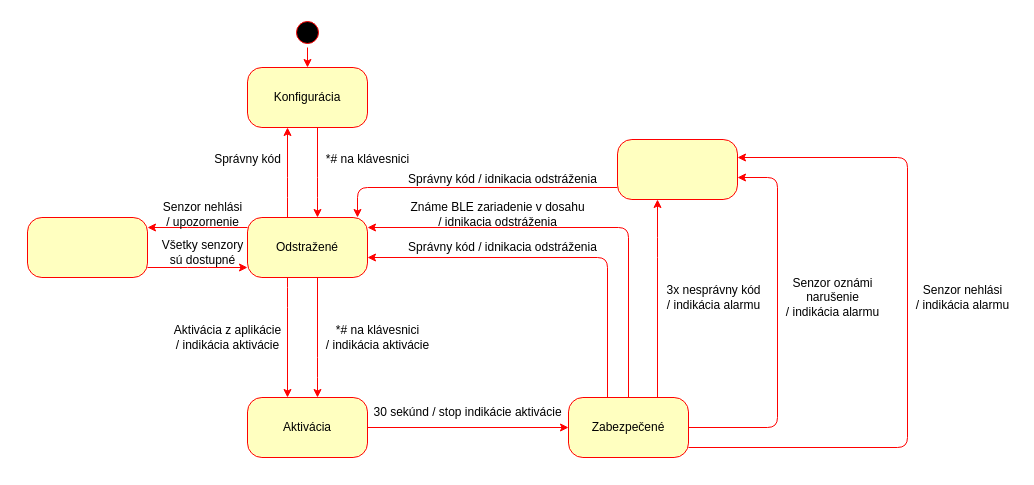
Image size: 1034x485. Some labels were removed from this diagram. Here are the shapes that lost their labels. From the top down, the centre of each, then its label:
[677,169]: Alarm
[87,247]: Porucha
